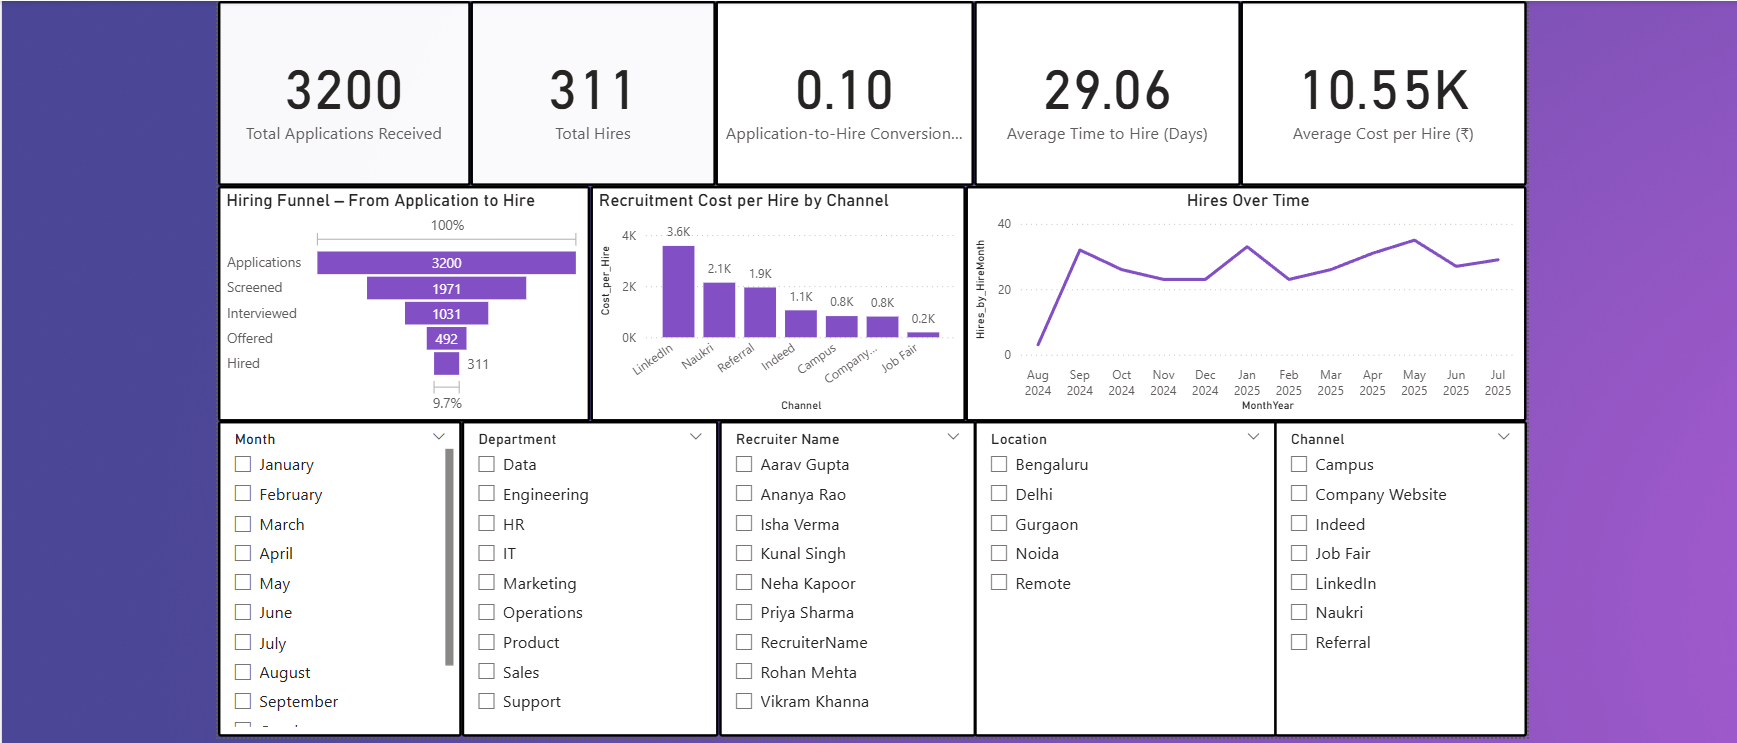

This screenshot's page, from the dashboard's own definition file:
{"tool":"powerbi","page":{"name":"Executive Summary (for seniors)","canvas":[1280,720],"ordinal":0},"visuals":[{"type":"card","fields":{"Values":["Applications.Applications"]},"box":[0,0,247,181.1],"z":0},{"type":"card","fields":{"Values":["Applications.App_to_Hire_%"]},"box":[487.1,0,252.5,181.1],"z":1000},{"type":"card","fields":{"Values":["Applications.Hired"]},"box":[247,0,240.1,181.1],"z":2000},{"type":"card","fields":{"Values":["Applications.Avg_Time_to_Hire_Days"]},"box":[739.6,0,260.7,181.1],"z":3000},{"type":"card","fields":{"Values":["Applications.Cost_per_Hire"]},"box":[1000.3,0,279.9,181.1],"z":4000},{"type":"funnel","title":"Hiring Funnel – From Application to Hire","fields":{"Category":["FunnelStage.Stage"],"Y":["Applications.Funnel_Count"]},"box":[0,181.4,364.3,230],"z":5000},{"type":"lineChart","title":"Hires Over Time","fields":{"Y":["Applications.Hires_by_HireMonth"],"Category":["Date.MonthYear"]},"box":[731.4,181.4,548.6,230],"z":6000},{"type":"columnChart","title":"Recruitment Cost per Hire by Channel","fields":{"Y":["Applications.Cost_per_Hire"],"Category":["Campaigns.Channel"]},"box":[364.3,181.4,367.1,230],"z":7000},{"type":"slicer","title":"Filter by Month","fields":{"Values":["Campaigns.EndDate.Variation.Date Hierarchy.Month"]},"box":[0,411.4,238.6,308.6],"z":8000},{"type":"slicer","fields":{"Values":["Requisitions.Department"]},"box":[238.6,411.4,251.4,308.6],"z":9000},{"type":"slicer","fields":{"Values":["Requisitions.Location"]},"box":[740,411.4,295.7,308.6],"z":10000},{"type":"slicer","fields":{"Values":["Campaigns.Channel"]},"box":[1032.9,411.4,247.1,308.6],"z":11000},{"type":"slicer","fields":{"Values":["Recruiters.Column2"]},"box":[490,411.4,251.4,308.6],"z":12000}]}

Visuals, with their boxes in screenshot pixels (x1, y1, x2, y2):
card - Applications.Applications: <box>217,0,468,184</box>
card - Applications.App_to_Hire_%: <box>712,0,969,184</box>
card - Applications.Hired: <box>468,0,712,184</box>
card - Applications.Avg_Time_to_Hire_Days: <box>969,0,1234,184</box>
card - Applications.Cost_per_Hire: <box>1234,0,1518,184</box>
"Hiring Funnel – From Application to Hire" funnel: <box>217,184,587,418</box>
"Hires Over Time" lineChart: <box>960,184,1518,418</box>
"Recruitment Cost per Hire by Channel" columnChart: <box>587,184,960,418</box>
"Filter by Month" slicer: <box>217,418,460,732</box>
slicer - Requisitions.Department: <box>460,418,715,732</box>
slicer - Requisitions.Location: <box>969,418,1269,732</box>
slicer - Campaigns.Channel: <box>1267,418,1518,732</box>
slicer - Recruiters.Column2: <box>715,418,970,732</box>
